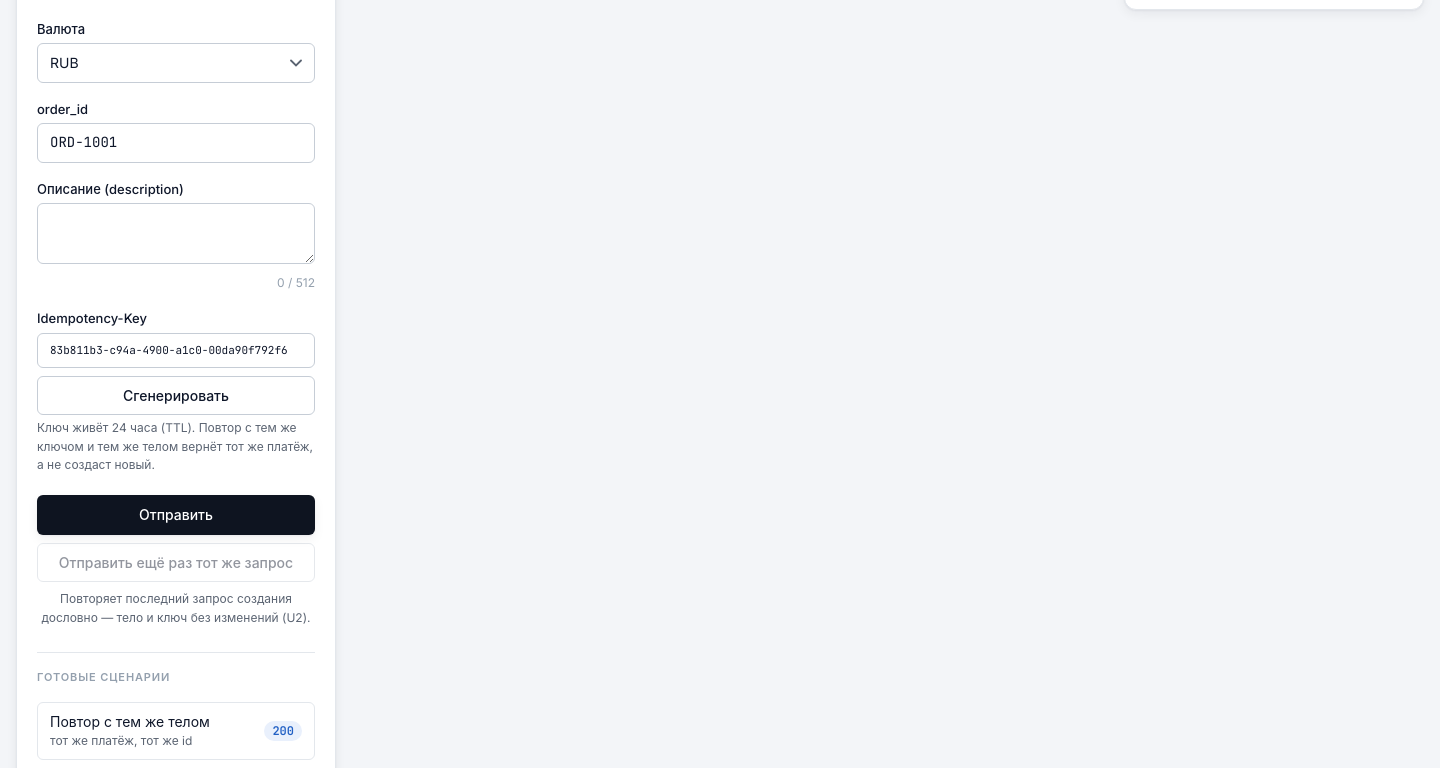
Scenario: @req U1 форма запроса: пять полей и кнопка генерации ключа › @req U1 кнопка генерации подставляет новый ключ, а не оставляет поле пустым
(page scrolled)
Click the button "Сгенерировать" at coordinates (176, 395), box [37,376,315,415]
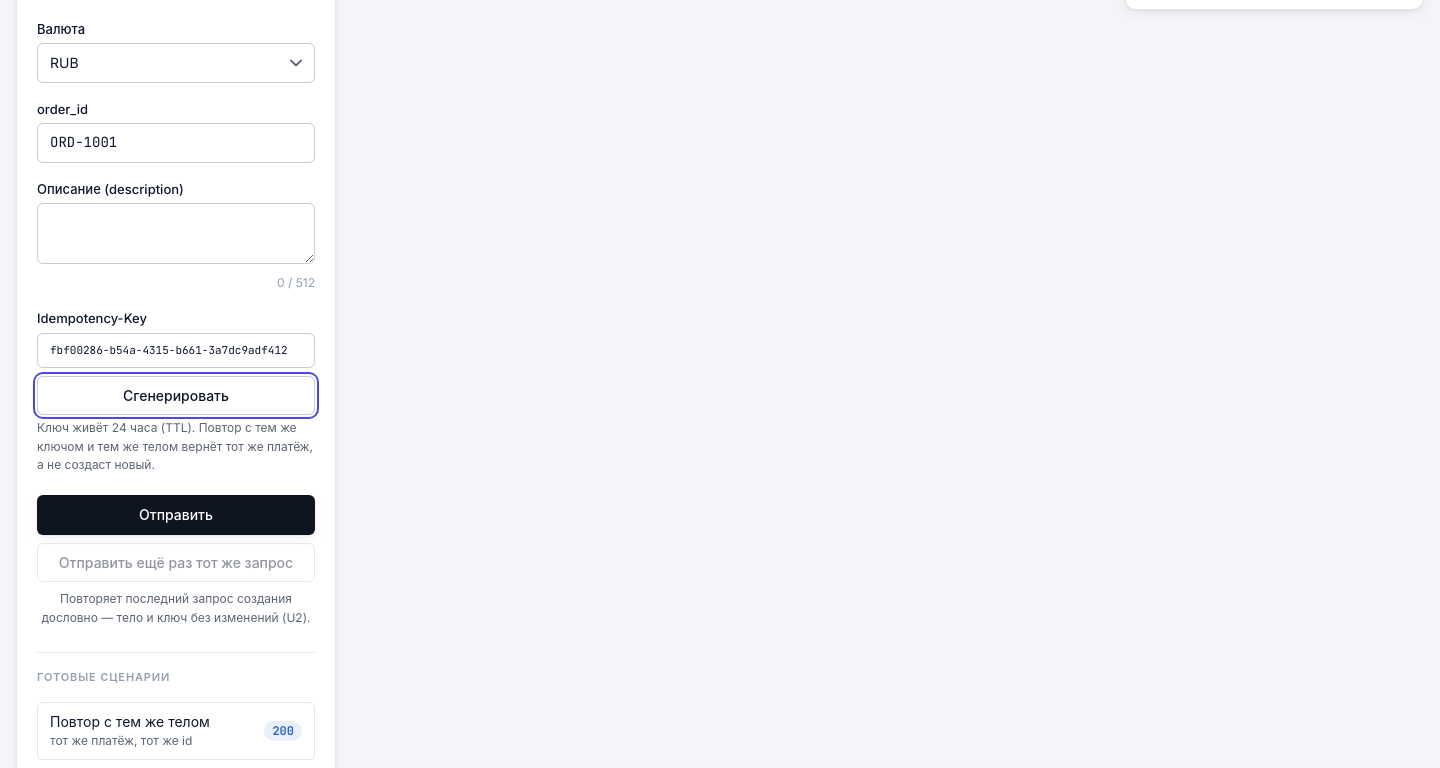
Now the field labelled "Idempotency-Key" is not empty, box [37,333,315,368]
